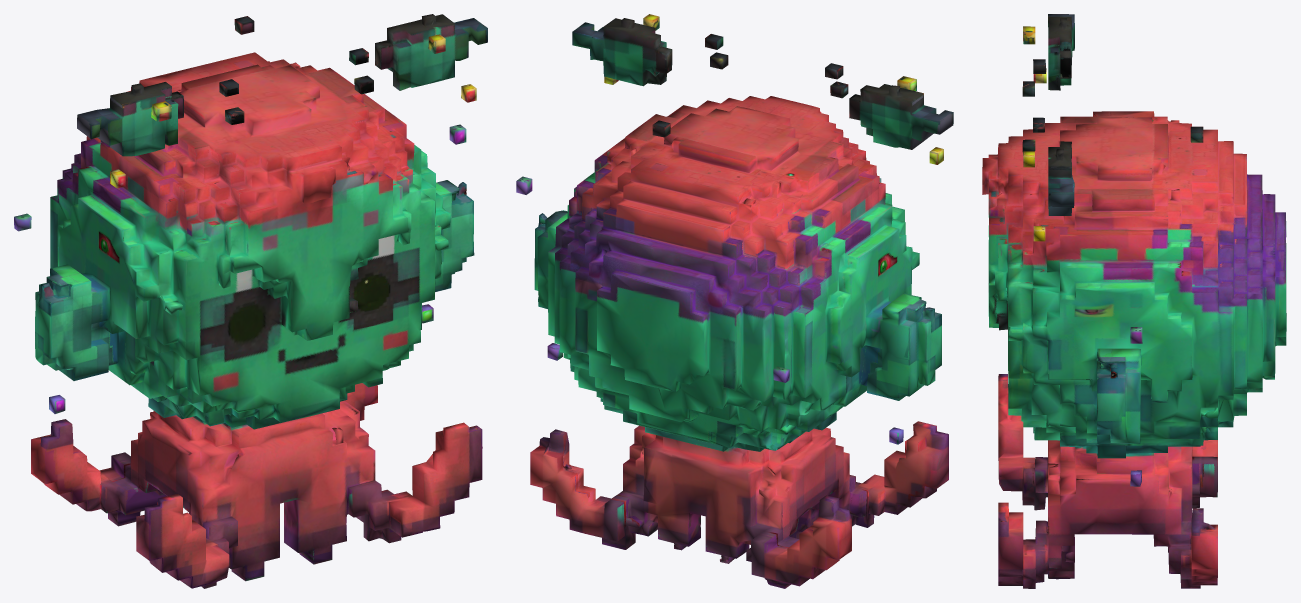
File: 3d_ar_pet.glb
3 views of the same model, side by side, from view 1: azimuth 30°, elevation 25°; view 2: azimuth 150°, elevation 25°; view 3: azimuth 270°, elevation 25° (orthographic). The views are drawn at different scales.
Bounding box in the file's own units: 1.77 × 2 × 1.16.
1 material, 1 textured.
